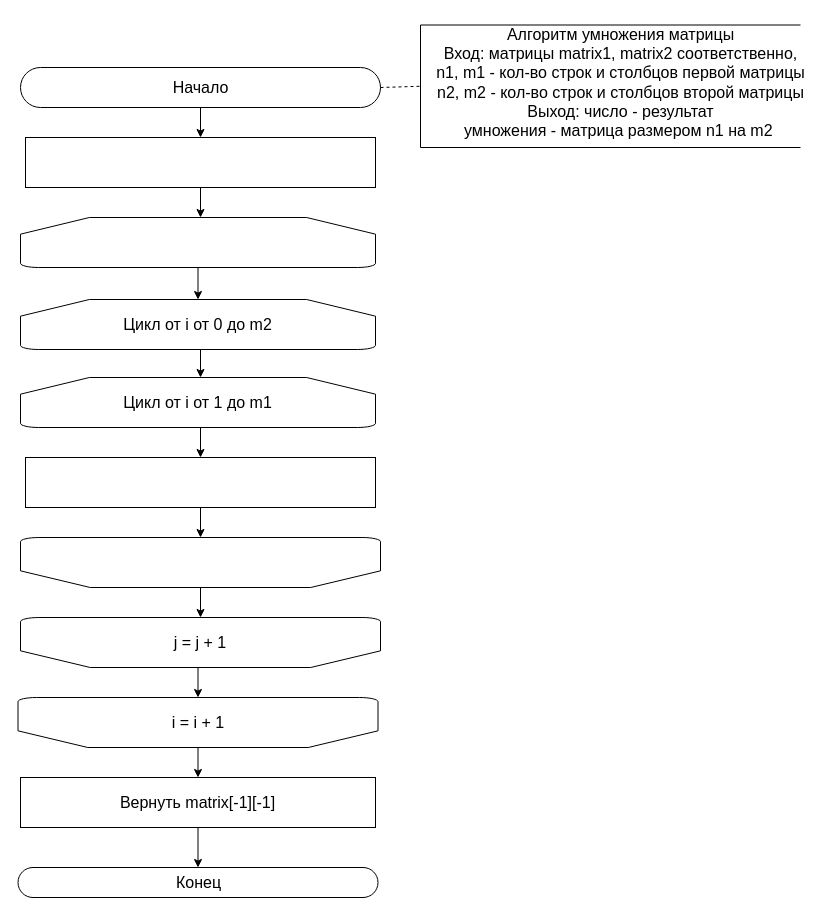
This 837x915 diagram has some shape labels left out. The shapes that lost their labels are listed below. From the top down, each one's box as (x1, y1, x2, y2) in pixels, then its label:
(24, 136, 376, 188): Создаем матрицу размером n1 на m2 и заполняем нулями
(20, 216, 376, 268): Цикл от i от 0 до n1
(24, 456, 376, 508): res[i][j] += matrix1[i][u] * matrix2[u][j]
(20, 536, 380, 588): u = u + 1
